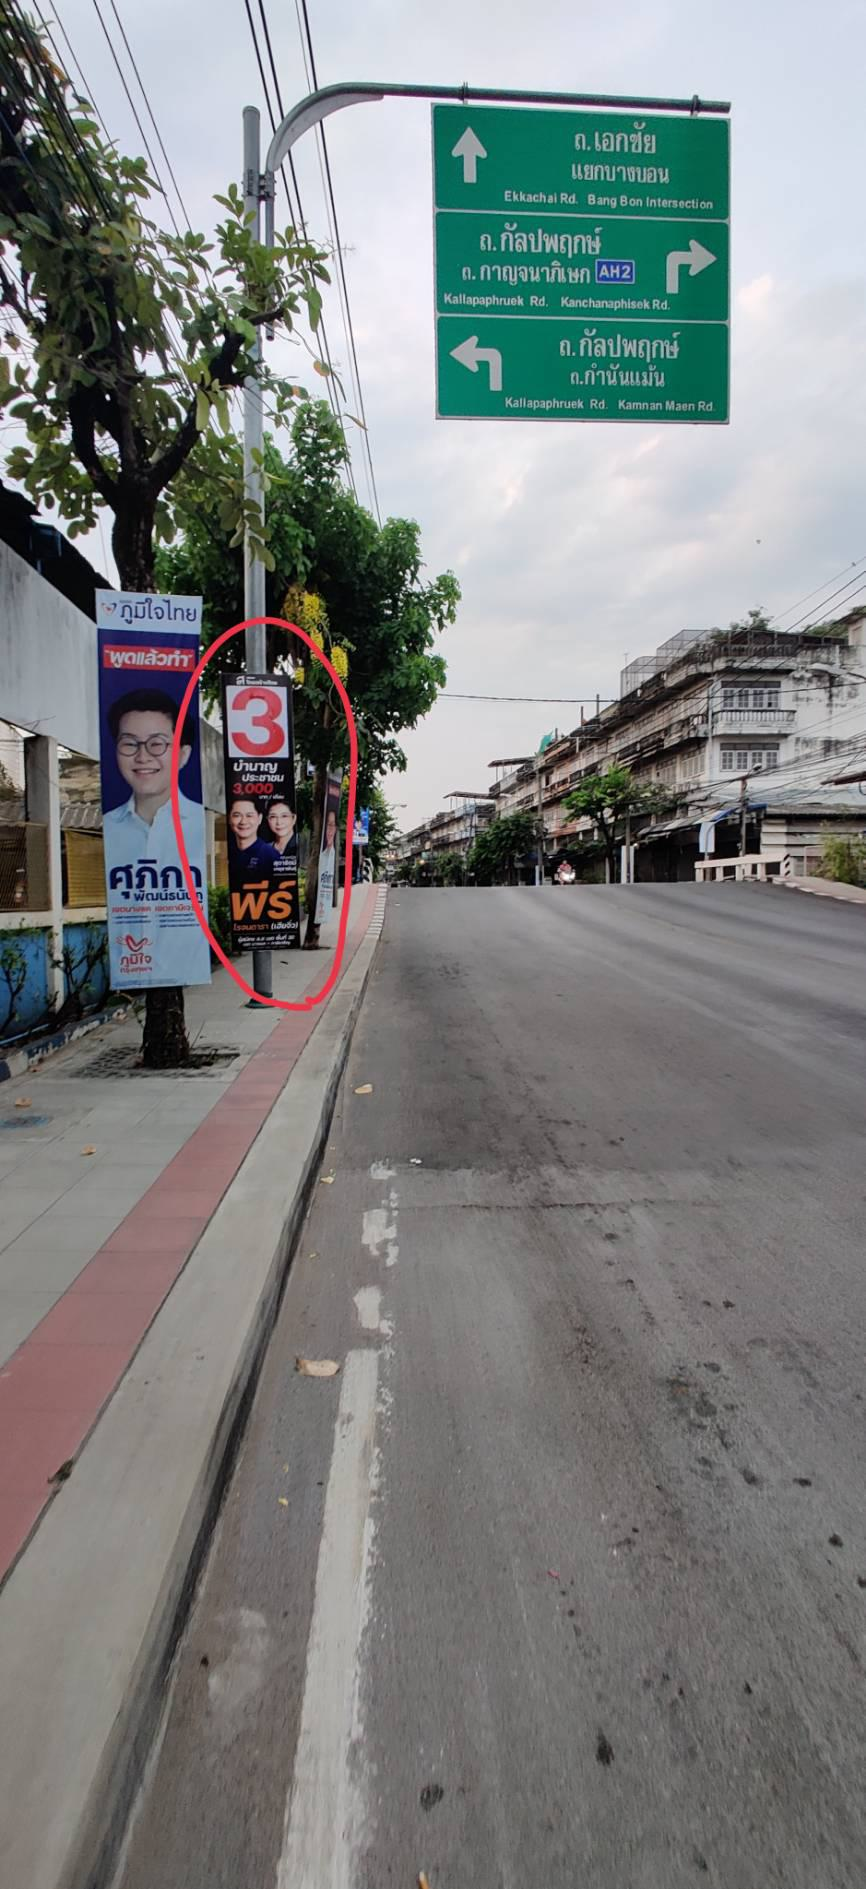Banner: (87, 592, 211, 999), (211, 671, 324, 943)
